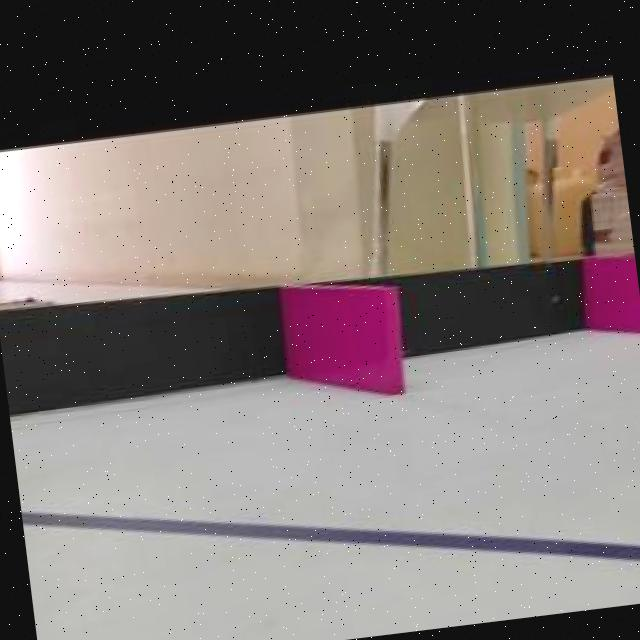xparking: (288, 284, 405, 401), (595, 265, 640, 347)
